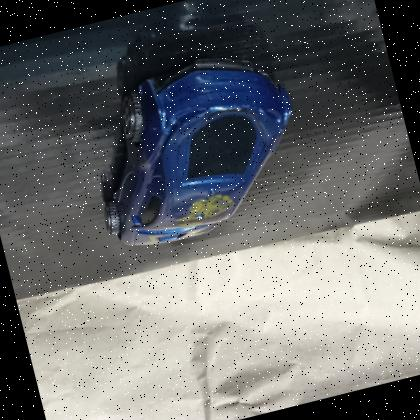Car: (66, 34, 324, 264)
